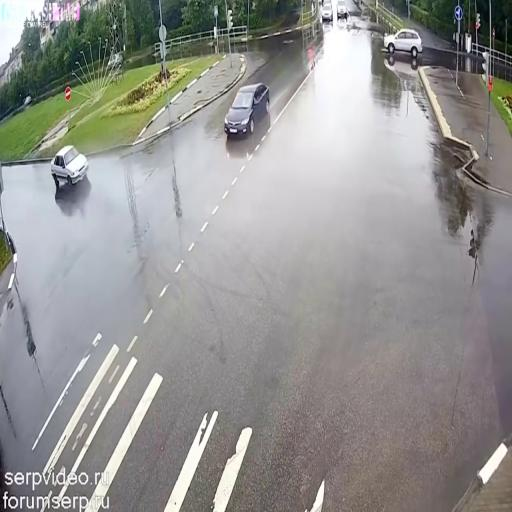小汽车: (224, 82, 272, 136), (49, 144, 89, 192), (387, 27, 423, 60), (318, 4, 338, 27), (334, 0, 351, 23)
